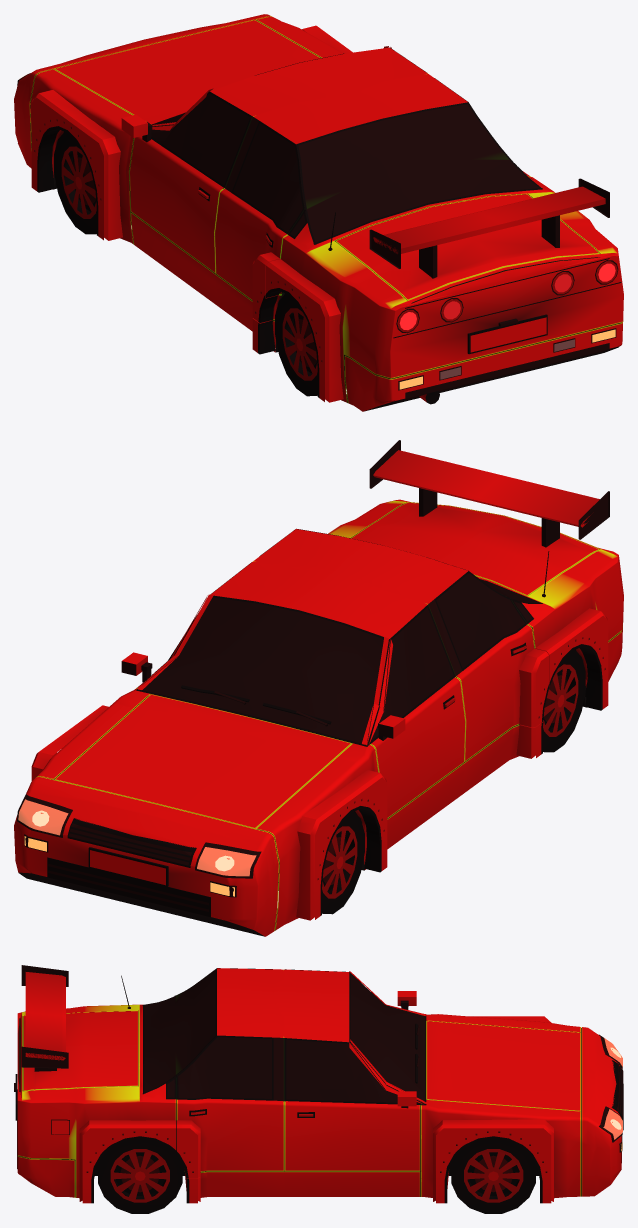
File: body.glb
3 renders of one model, top to bottom at view 1: azimuth 30°, elevation 25°; view 2: azimuth 150°, elevation 25°; view 3: azimuth 270°, elevation 25°, orthographic. The views are drawn at different scales.
Parts seen in each view (by area): view 1: body, glass_backlight, hood, trunk, door_l, spoiler, flare_fl, bumper_r, flare_rl, glass_door_l, glass_door_rl, door_rl (+14 smaller); view 2: body, hood, glass_windshield, bumper_f, trunk, spoiler, door_l, flare_fl, grille, door_rl, fender_fl, glass_door_l (+15 smaller); view 3: body, hood, door_r, door_rr, trunk, glass_backlight, glass_windshield, fender_fr, wheel_rr_mesh, wheel_fr_mesh, glass_door_r, bumper_f (+15 smaller).
Boxes of the visible parts, <box> form: body: <box>131,47,623,402</box>; glass_backlight: <box>297,104,541,244</box>; hood: <box>54,20,320,124</box>; trunk: <box>335,194,599,300</box>; door_l: <box>129,136,224,273</box>; spoiler: <box>369,178,609,278</box>; flare_fl: <box>31,90,122,240</box>; bumper_r: <box>344,322,622,411</box>; flare_rl: <box>252,259,343,402</box>; glass_door_l: <box>151,93,252,188</box>; glass_door_rl: <box>233,123,304,234</box>; door_rl: <box>214,188,287,319</box>; body: <box>209,499,623,849</box>; hood: <box>54,694,351,829</box>; glass_windshield: <box>140,597,389,746</box>; bumper_f: <box>14,776,278,936</box>; trunk: <box>351,502,599,595</box>; spoiler: <box>369,440,609,547</box>; door_l: <box>370,677,465,818</box>; flare_fl: <box>296,770,387,920</box>; grille: <box>47,818,210,917</box>; door_rl: <box>456,624,534,761</box>; fender_fl: <box>256,743,378,930</box>; glass_door_l: <box>368,606,453,744</box>; body: <box>17,968,420,1198</box>; hood: <box>426,1021,580,1111</box>; door_r: <box>284,1101,420,1171</box>; door_rr: <box>177,1098,284,1171</box>; trunk: <box>23,1011,138,1091</box>; glass_backlight: <box>143,970,215,1093</box>; glass_windshield: <box>350,974,425,1105</box>; fender_fr: <box>420,1099,580,1198</box>; wheel_rr_mesh: <box>98,1138,182,1213</box>; wheel_fr_mesh: <box>451,1138,535,1213</box>; glass_door_r: <box>286,1039,418,1104</box>; bumper_f: <box>580,1027,621,1196</box>.
Bounding box in the file's own units: 1.95 × 1.36 × 4.52.
